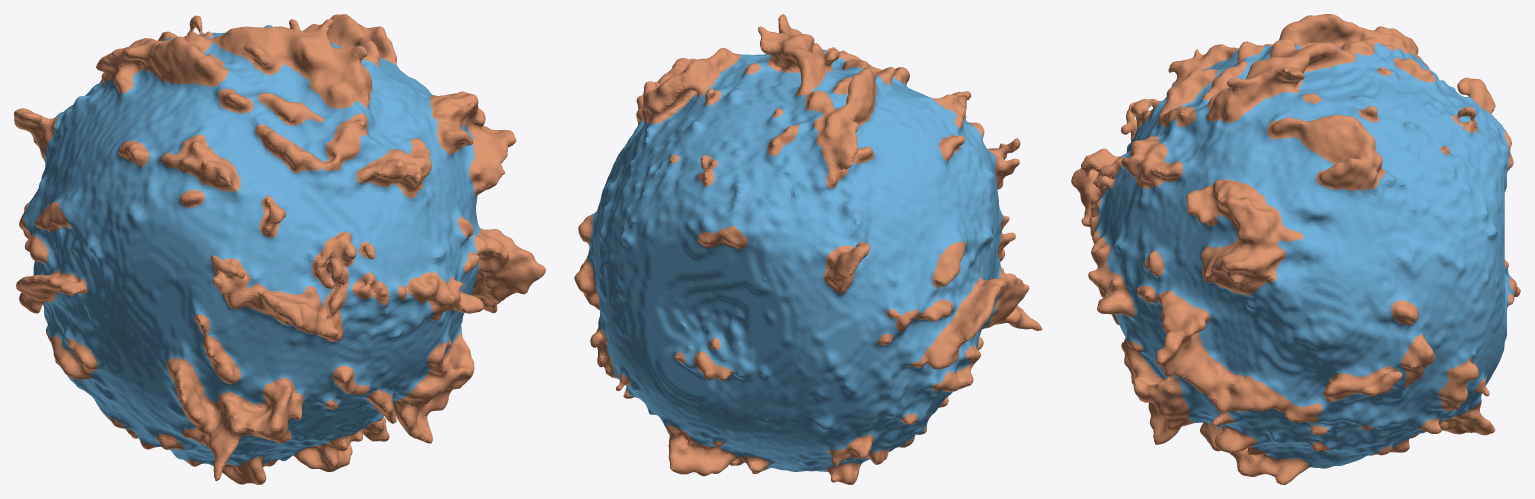
3 views of the same model, side by side, from view 1: azimuth 30°, elevation 25°; view 2: azimuth 150°, elevation 25°; view 3: azimuth 270°, elevation 25° (orthographic). The views are drawn at different scales.
Size of the model in its own units: 164 by 157 by 155.
